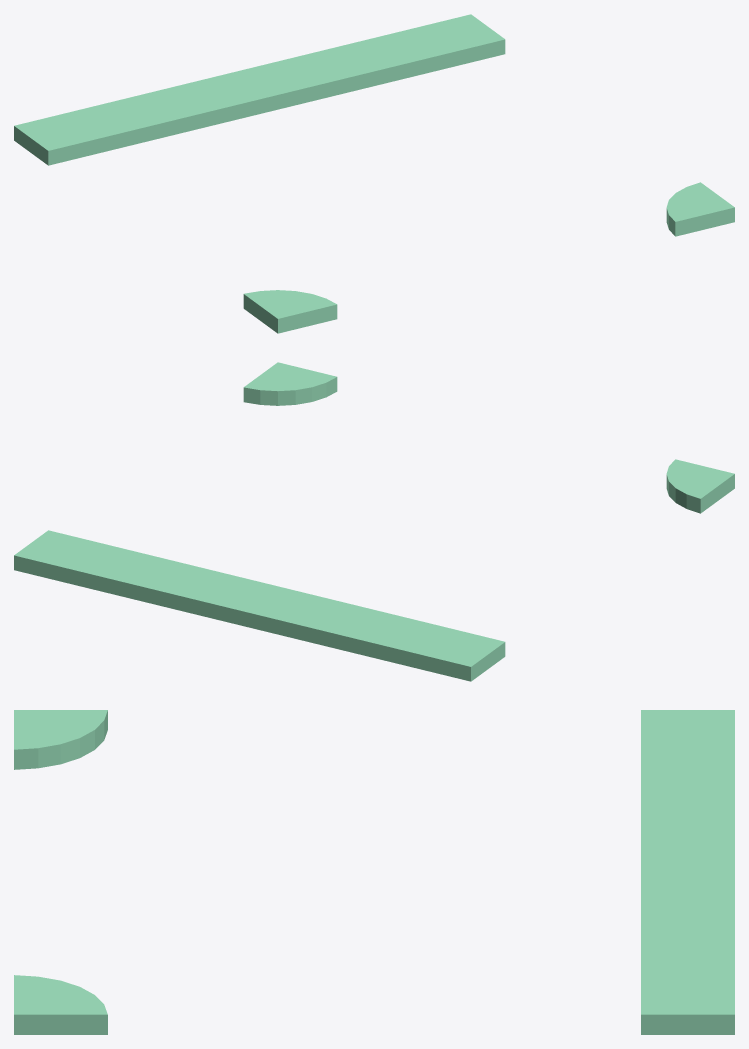
File: ground_grass_t_section.fbx
The picture shows the model from 3 angles, top to bottom: view 1: azimuth 30°, elevation 25°; view 2: azimuth 150°, elevation 25°; view 3: azimuth 270°, elevation 25°; orthographic projection. The views are drawn at different scales.
Visible parts, largest first — view 1: ground_grass_t_section; view 2: ground_grass_t_section; view 3: ground_grass_t_section.
Boxes of the visible parts, x1,y1,x2,y2 form: ground_grass_t_section: (14,14,734,333); ground_grass_t_section: (14,362,734,681); ground_grass_t_section: (14,710,734,1034).
Bounding box in the file's own units: 200 × 6.16 × 200.
